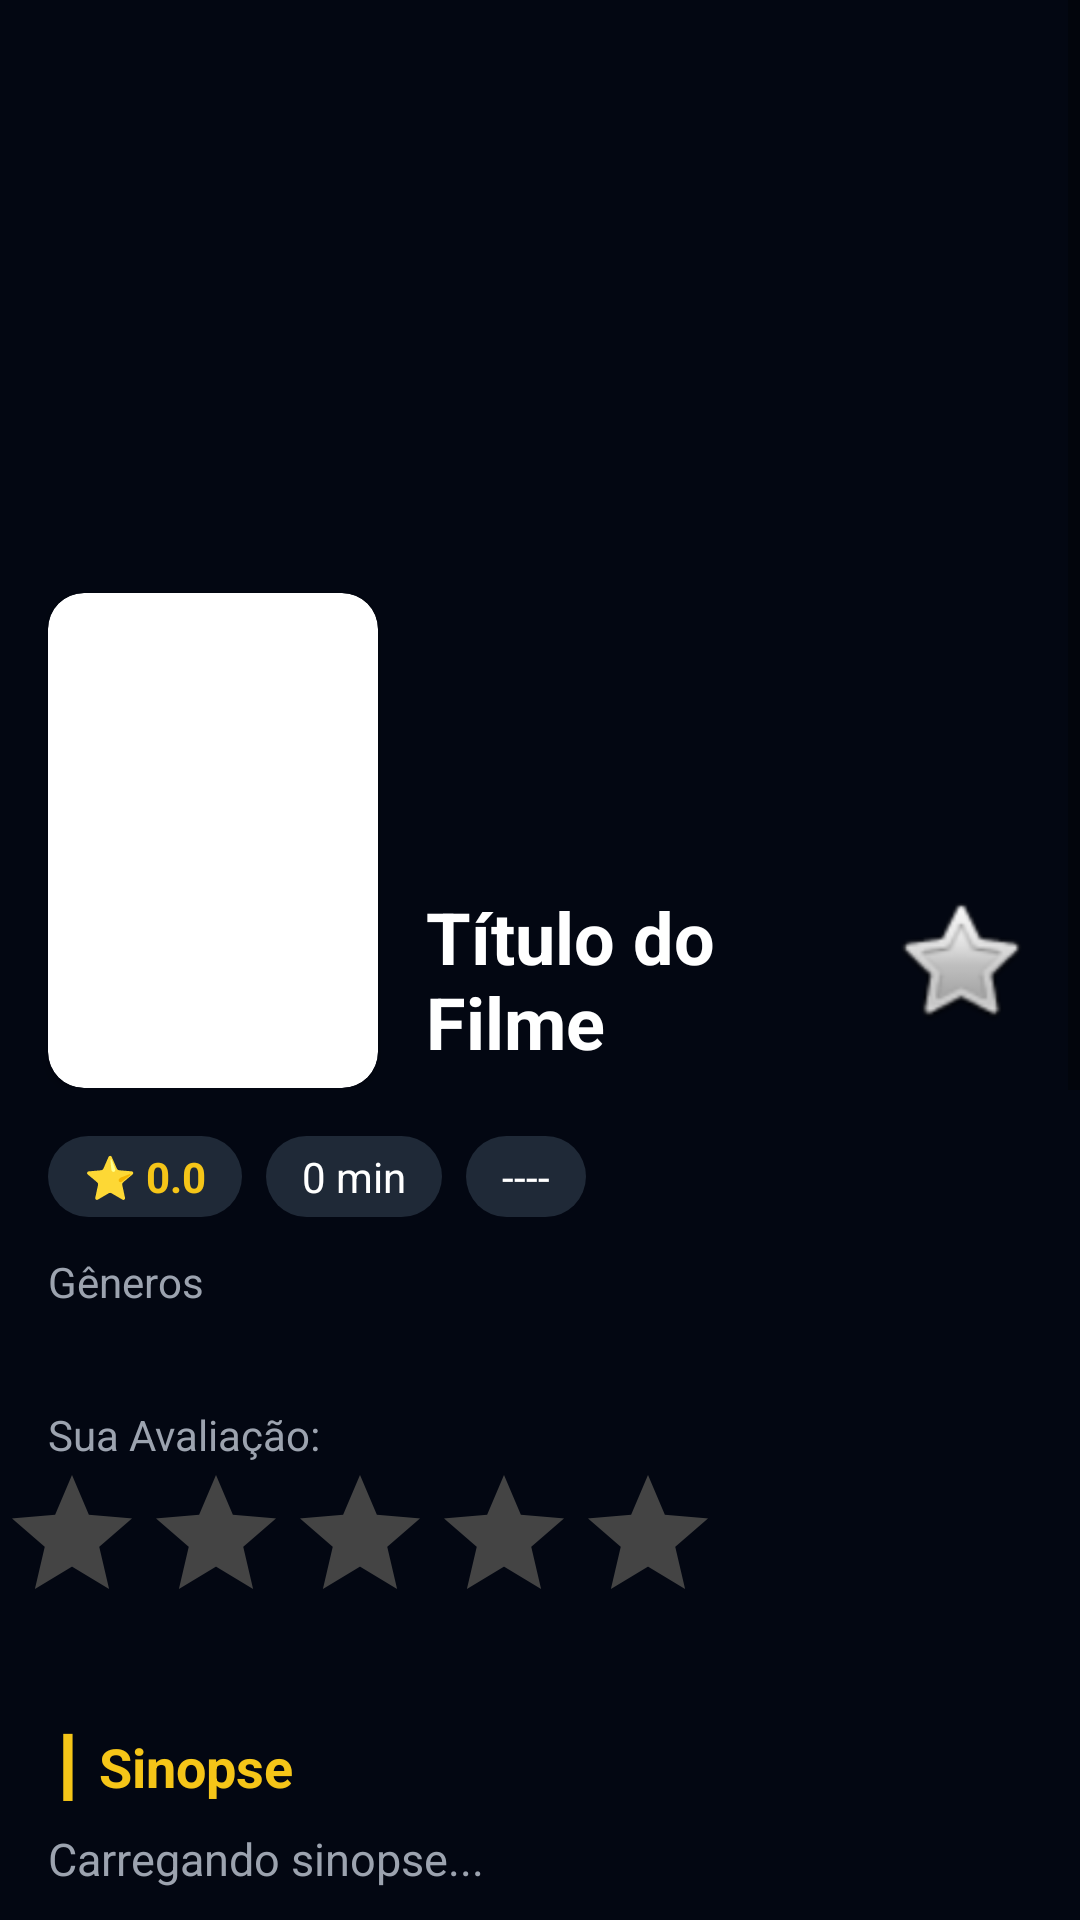

Locate icon controls on the screen. Image size 1080×1920, boxes as box(x1, y1, x2, y2).
Favoritar: box(903, 905, 1019, 1015)
